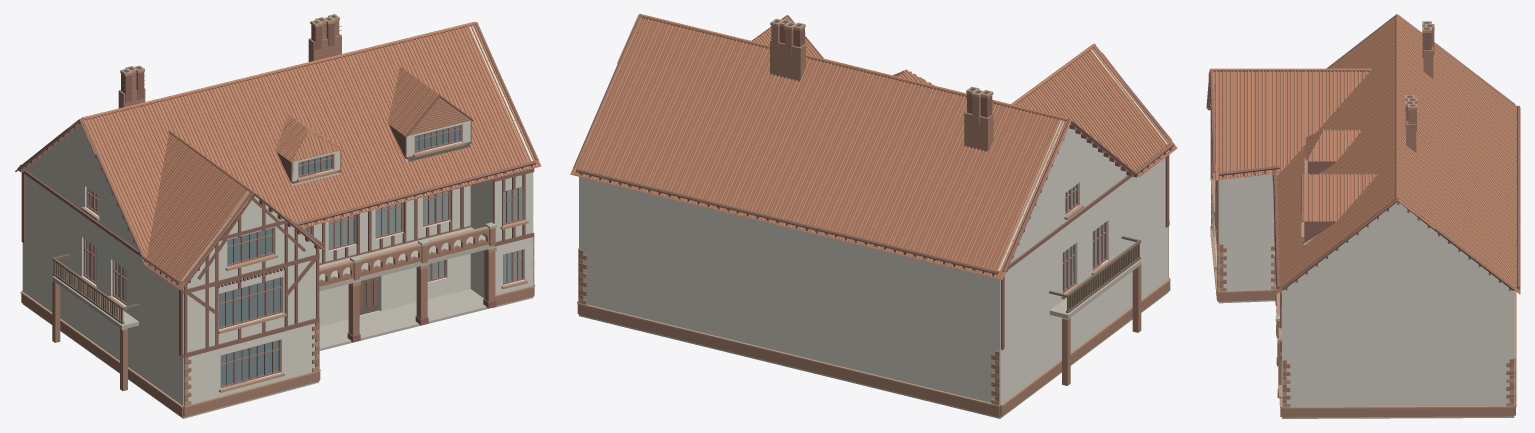
The model's file is xuhui-caldbeck-manager-residence-raw.glb.
3 renders of one model, left to right at view 1: azimuth 30°, elevation 25°; view 2: azimuth 150°, elevation 25°; view 3: azimuth 270°, elevation 25°, orthographic. The views are drawn at different scales.
Visible parts, largest first — view 1: 武康路99号正广和大班住宅; view 2: 武康路99号正广和大班住宅; view 3: 武康路99号正广和大班住宅.
Boxes of the visible parts, box(x1,y1,x2,y2) form: 武康路99号正广和大班住宅: box(15, 14, 541, 418); 武康路99号正广和大班住宅: box(570, 14, 1177, 418); 武康路99号正广和大班住宅: box(1206, 14, 1520, 418).
Size of the model in its own units: 22.29 by 13.66 by 15.43.
